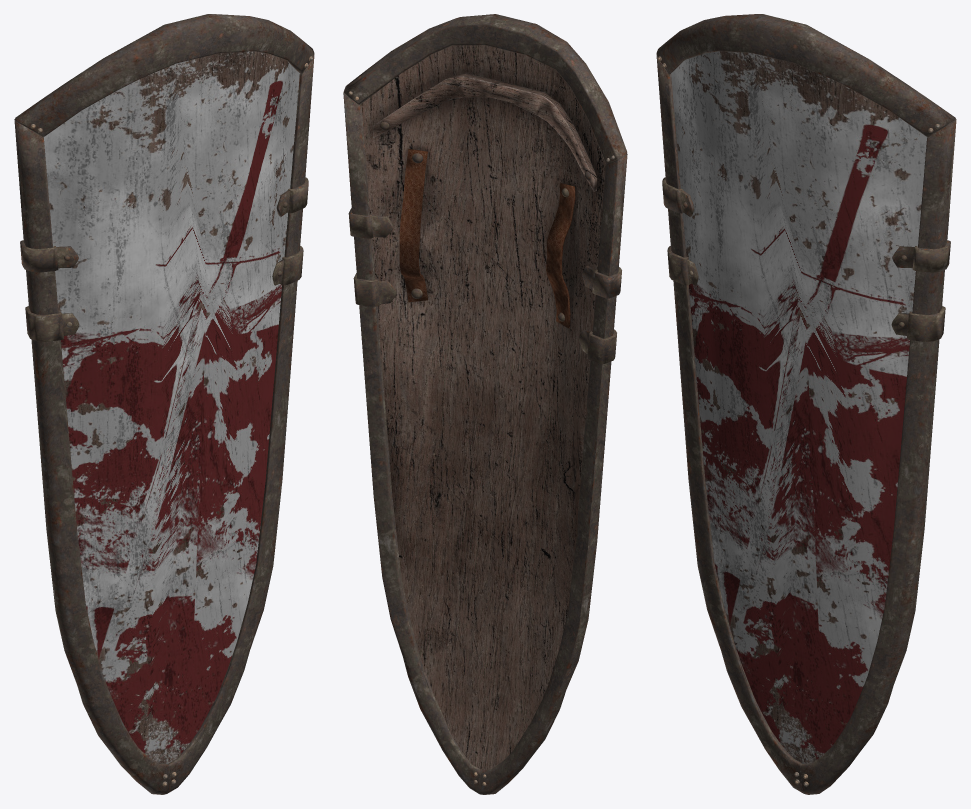
The model's file is kite_shield.gltf.
3 renders of one model, left to right at view 1: azimuth 30°, elevation 25°; view 2: azimuth 150°, elevation 25°; view 3: azimuth 330°, elevation 25°, orthographic. The views are drawn at different scales.
Parts seen in each view (by area): view 1: kite_shield__x; view 2: kite_shield__x; view 3: kite_shield__x.
Boxes of the visible parts, box(x1,y1,x2,y2) form: kite_shield__x: box(14, 14, 314, 794); kite_shield__x: box(343, 14, 627, 794); kite_shield__x: box(656, 14, 956, 794).
Bounding box in the file's own units: 0.5433 × 1.39 × 0.1347.
2 materials, 2 textured.
